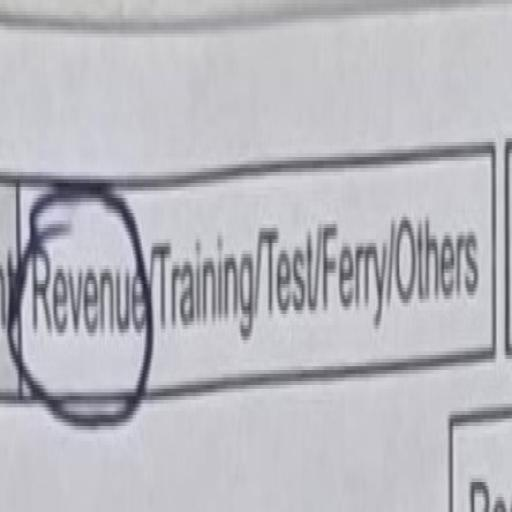check: (19, 114, 145, 512)
